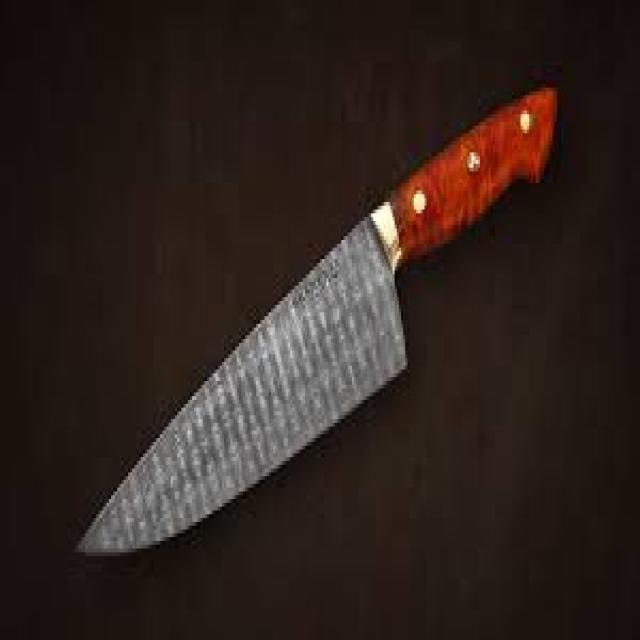knives: (42, 132, 589, 575)
